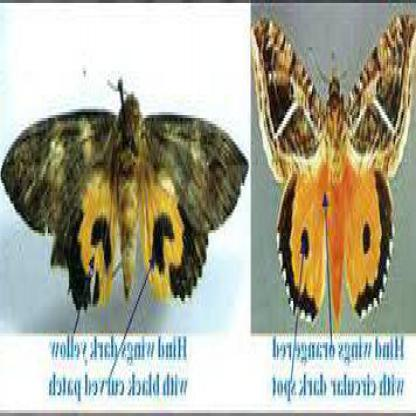fruit sucking moth: (2, 91, 248, 312), (252, 9, 413, 327)
